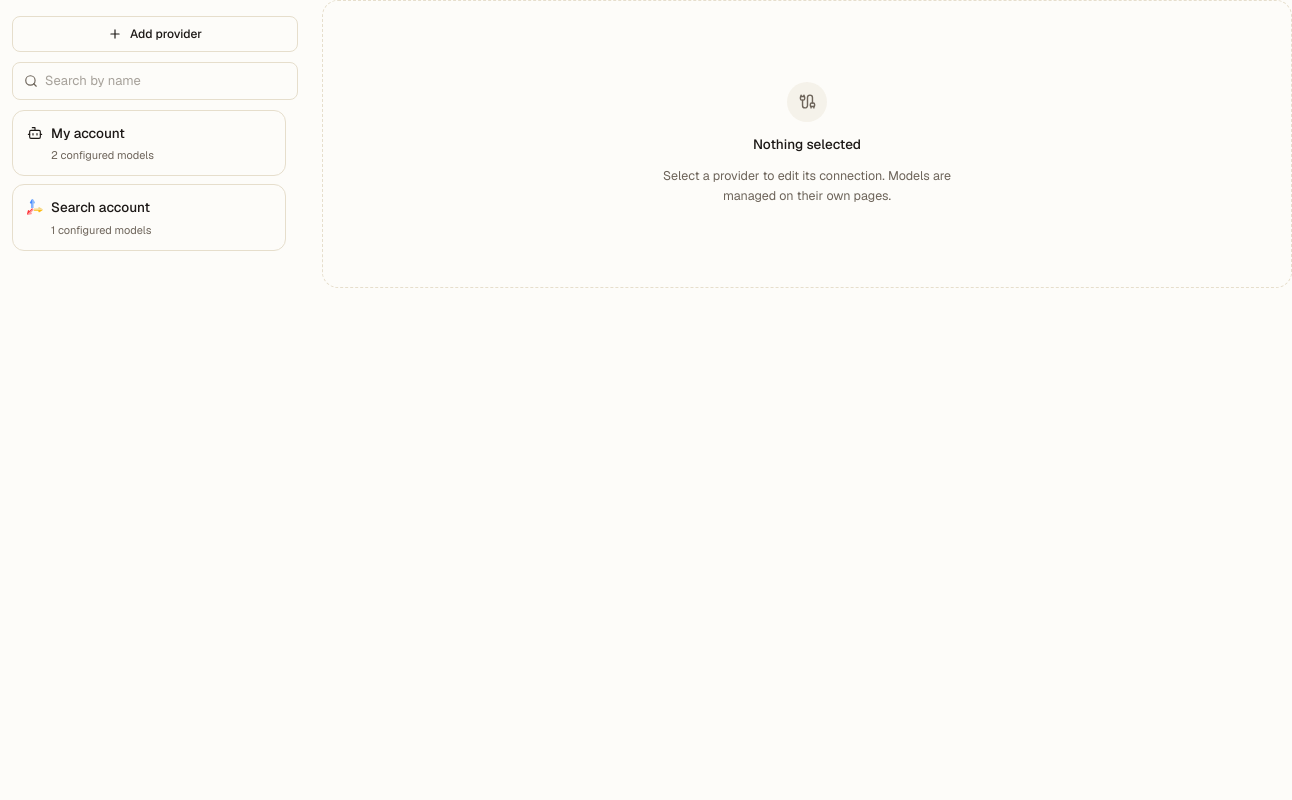
Test: adds a provider over plain HTTP, where crypto.randomUUID does not exist
Click the button "Add provider" at (155, 34), box [12,16,298,52]
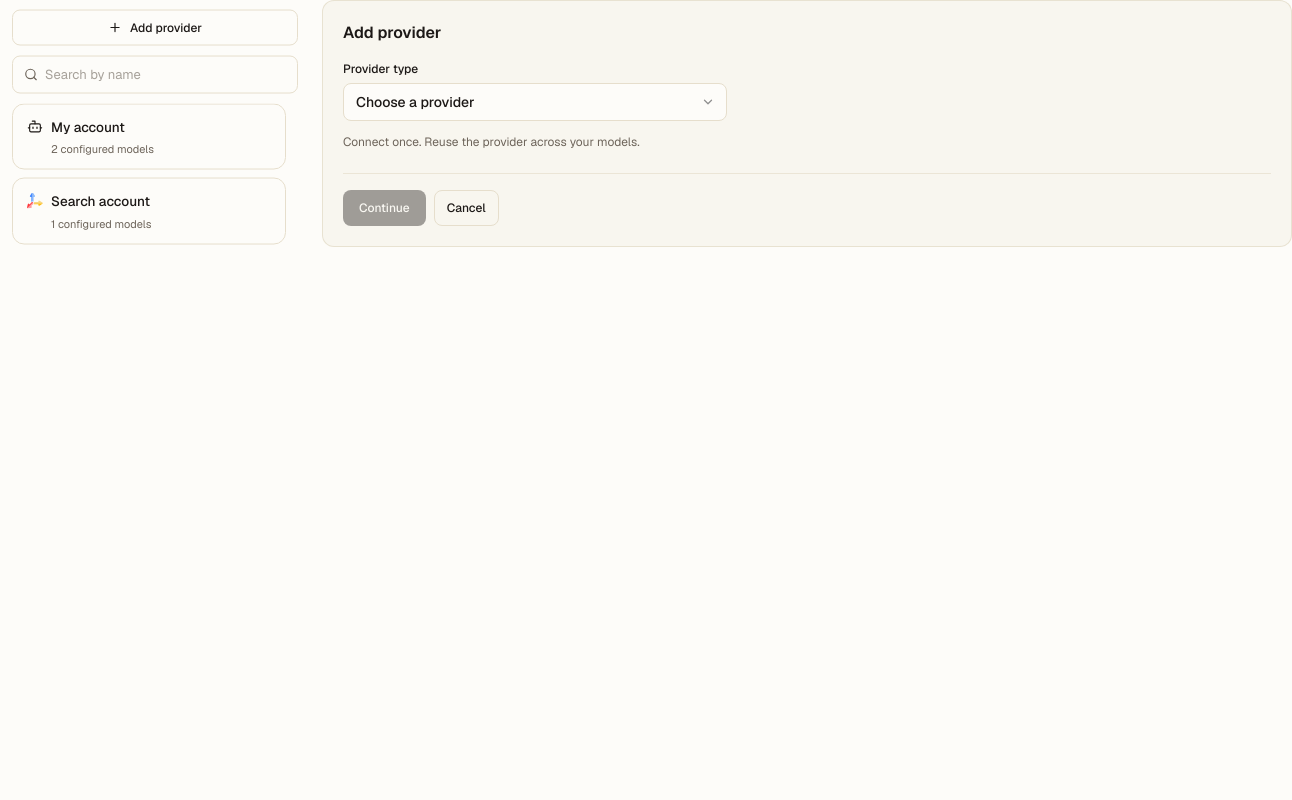
Select "Custom" in the dropdown labelled "Provider type" at (535, 102), box [343,83,727,121]
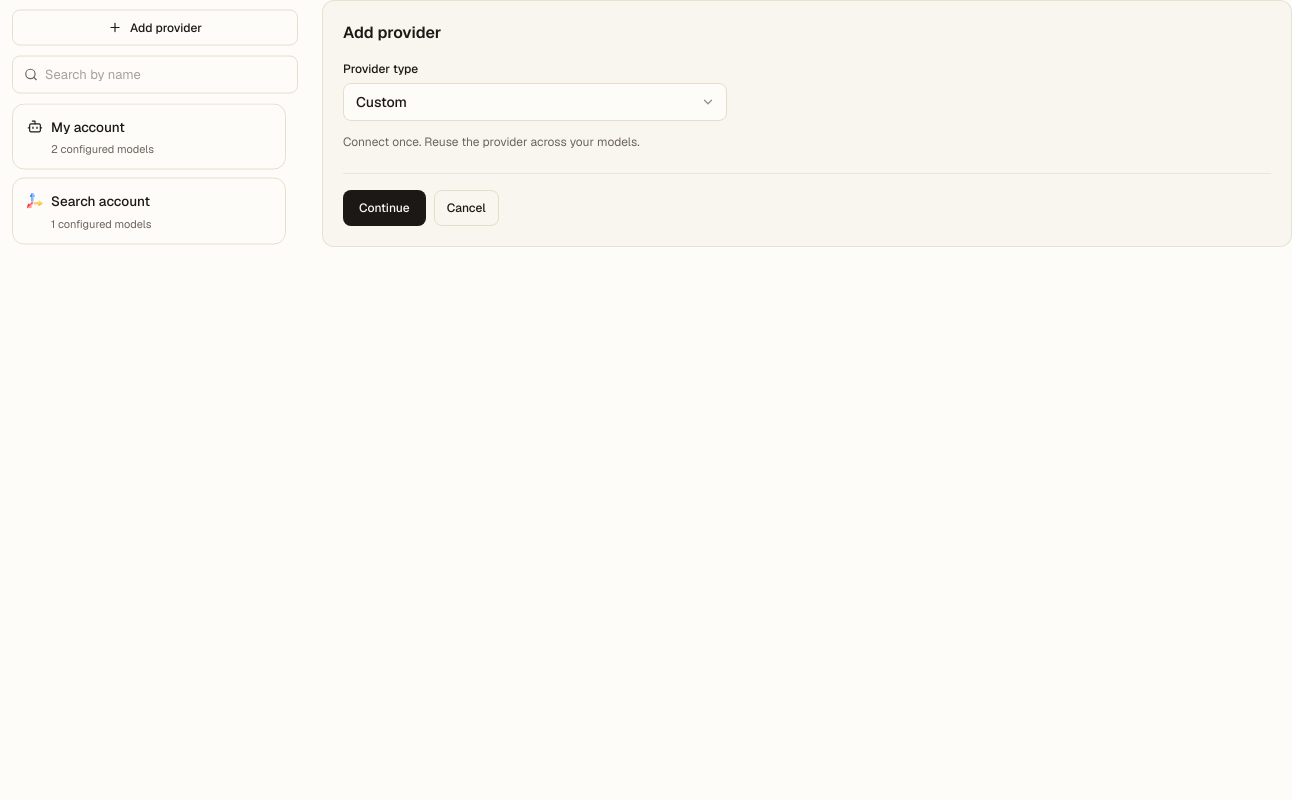
Click the button "Continue" at (384, 208), box [343,190,426,226]
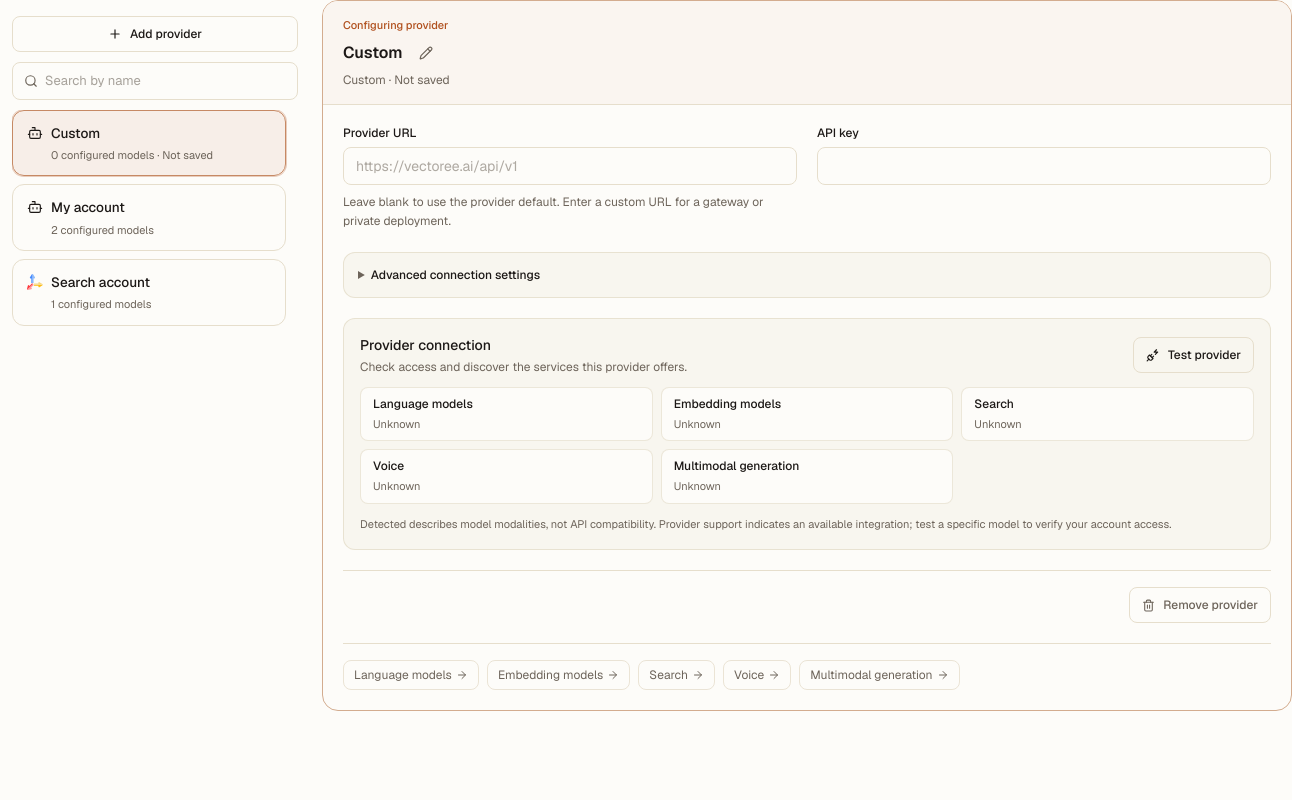
Check: the element named "Provider settings" is shown
